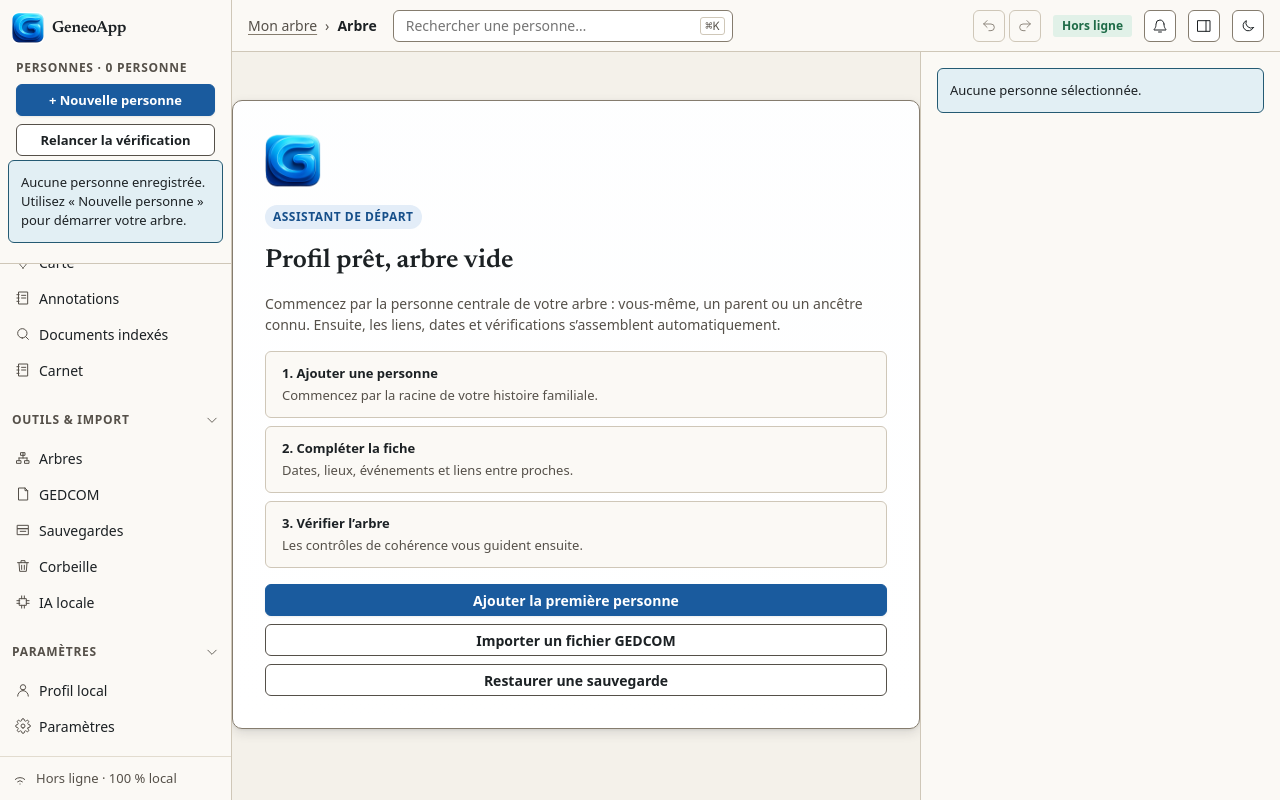
App › affiche une erreur honnête quand l’IA locale est indisponible (aucune réponse fictive)
(page scrolled)
Expected: the text "Aucune personne enregistrée" is shown, [21,173,205,229]
Click the button "IA locale" at (116, 602), box [4,584,227,620]
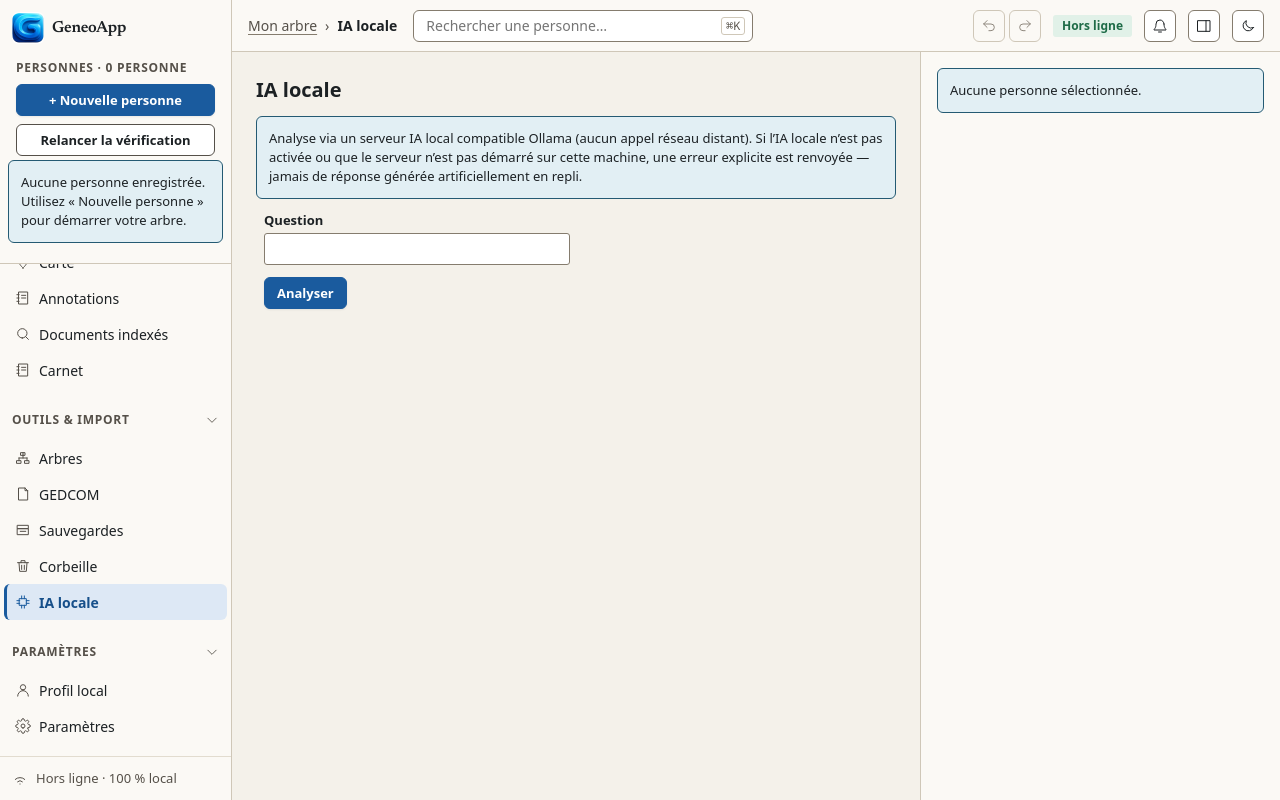
Type "Résume la famille" into the field labelled "Question" at (417, 249), box [264,233,570,265]
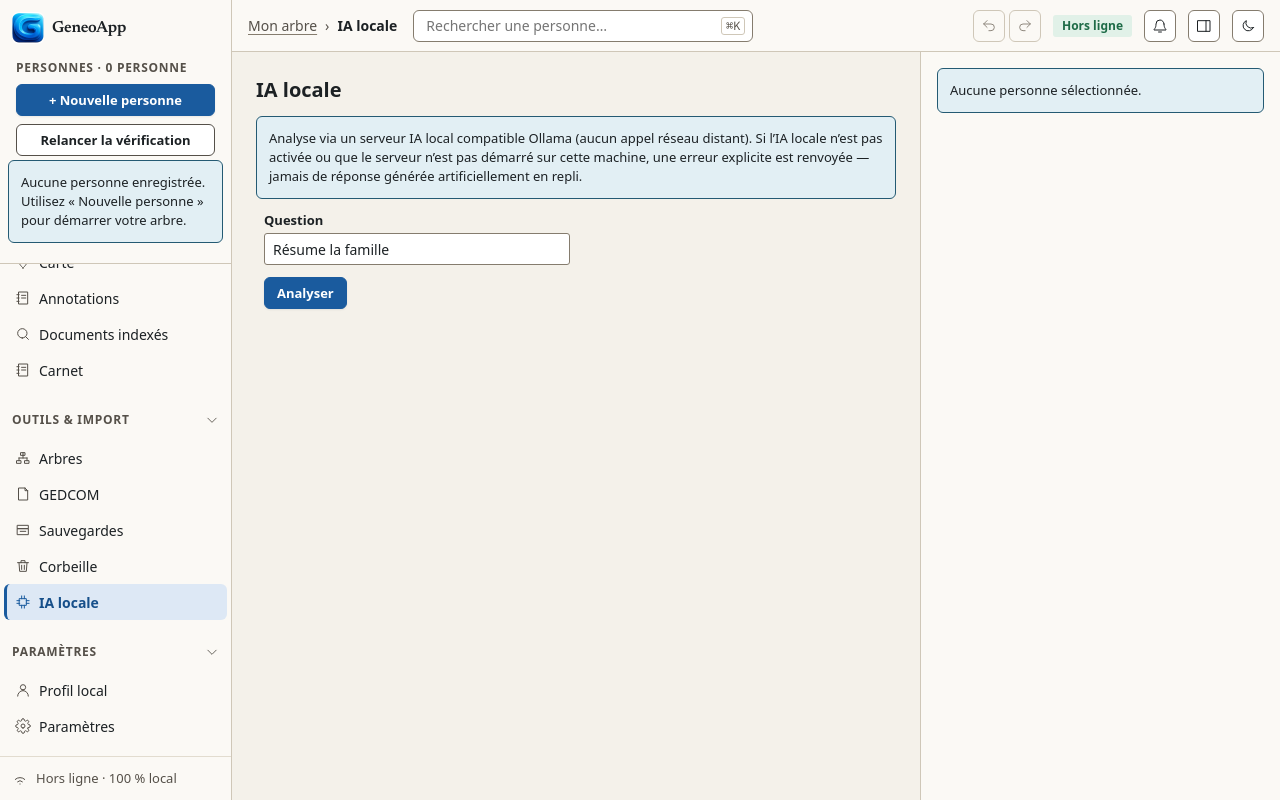
Click the button "Analyser" at (305, 293), box [264,277,347,309]
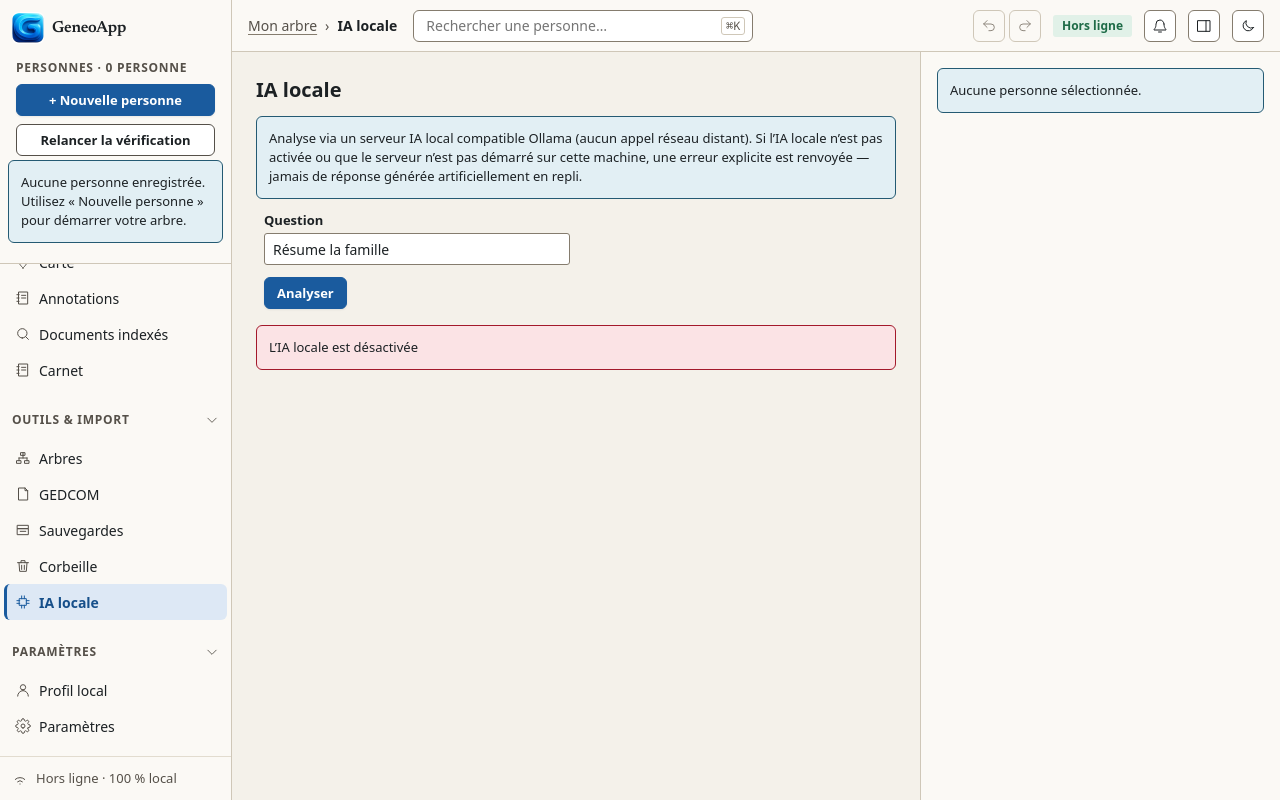
Result: the text "L’IA locale est désactivée" is shown at [269,338,418,356]
